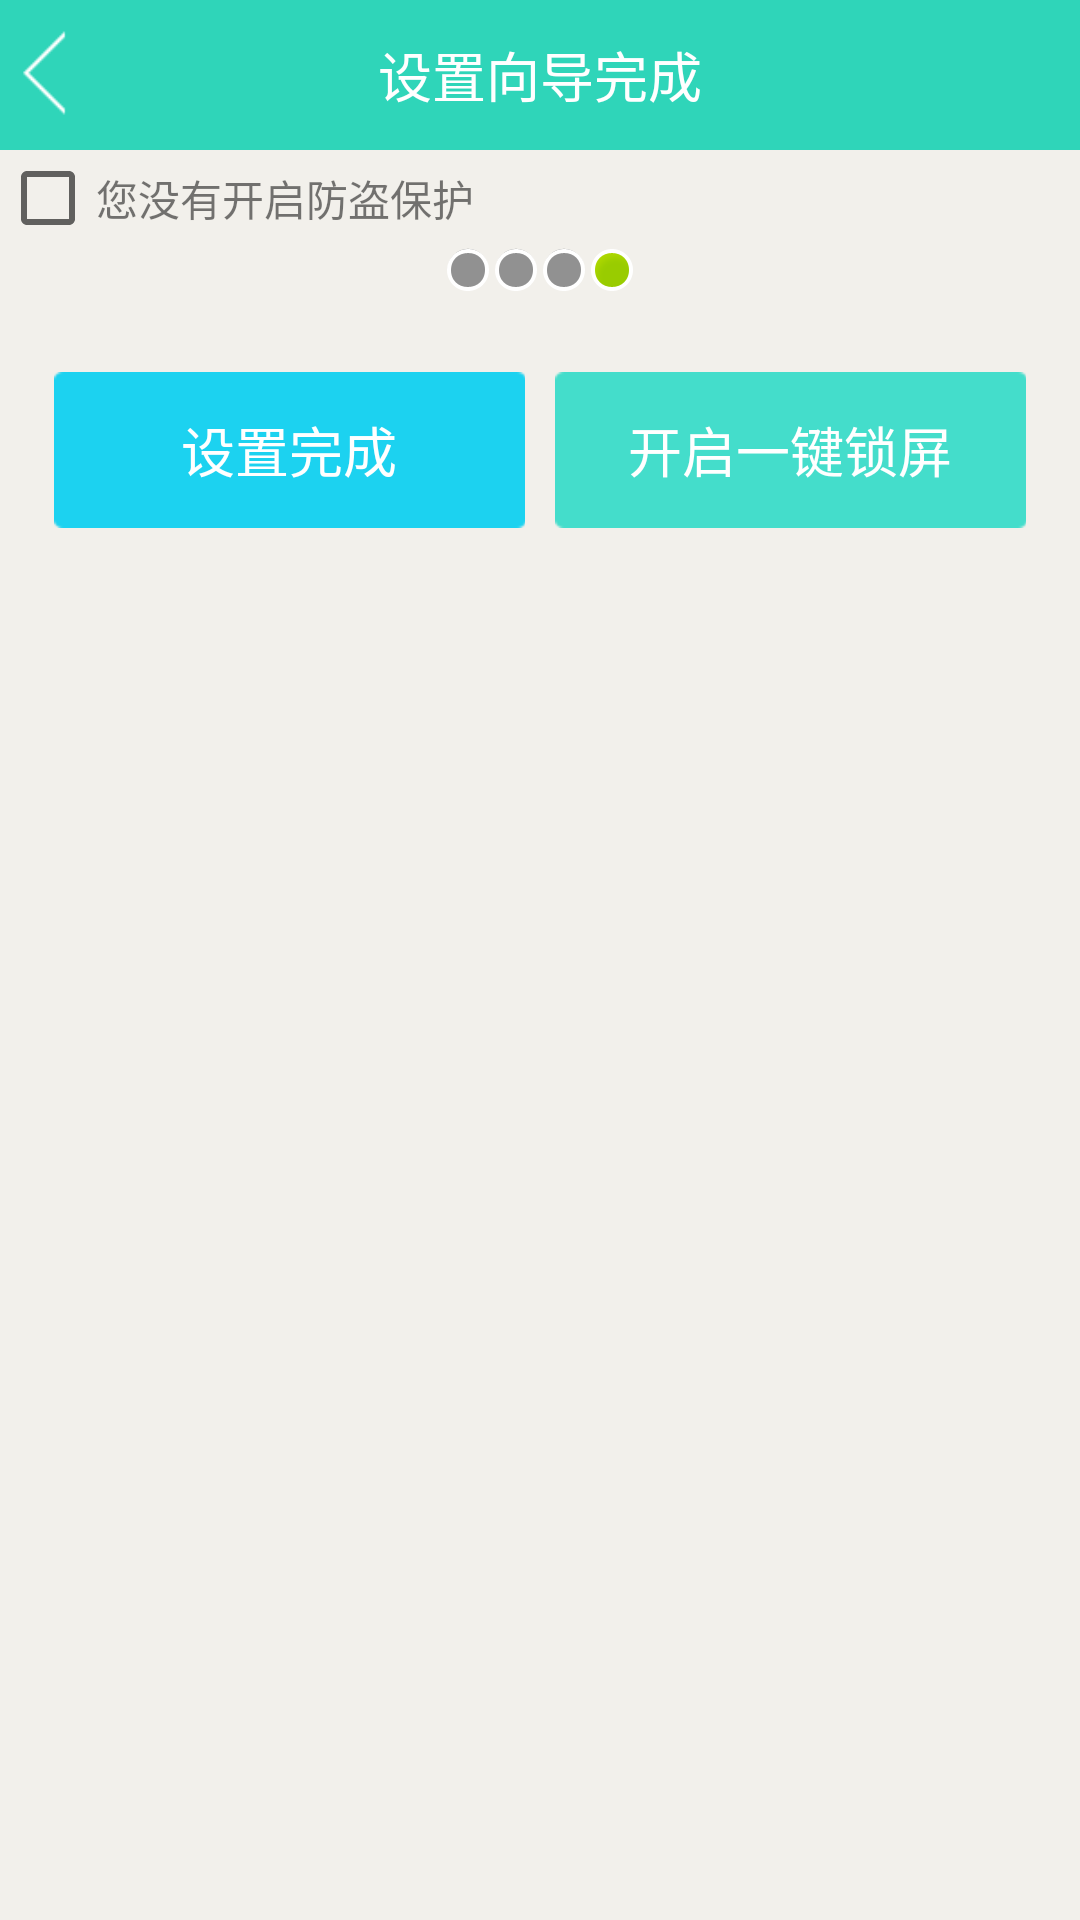

Icon bounding boxes for this 1080 x 1920 phone screenshot, format [left=x1, top=y1, right=x2, bottom=y2]:
our group back on: [left=23, top=31, right=65, bottom=115]
